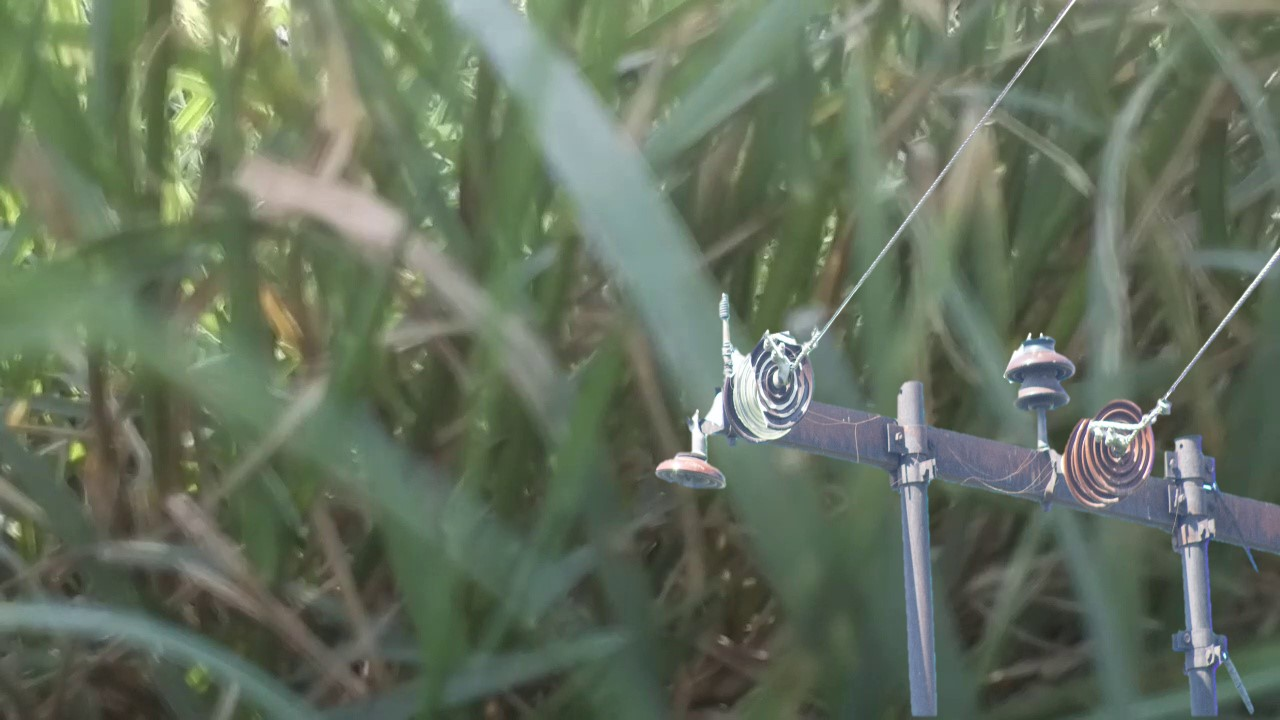defect_disc: (747, 325, 813, 435)
insulator_disc: (1081, 393, 1157, 499), (654, 442, 729, 497)
